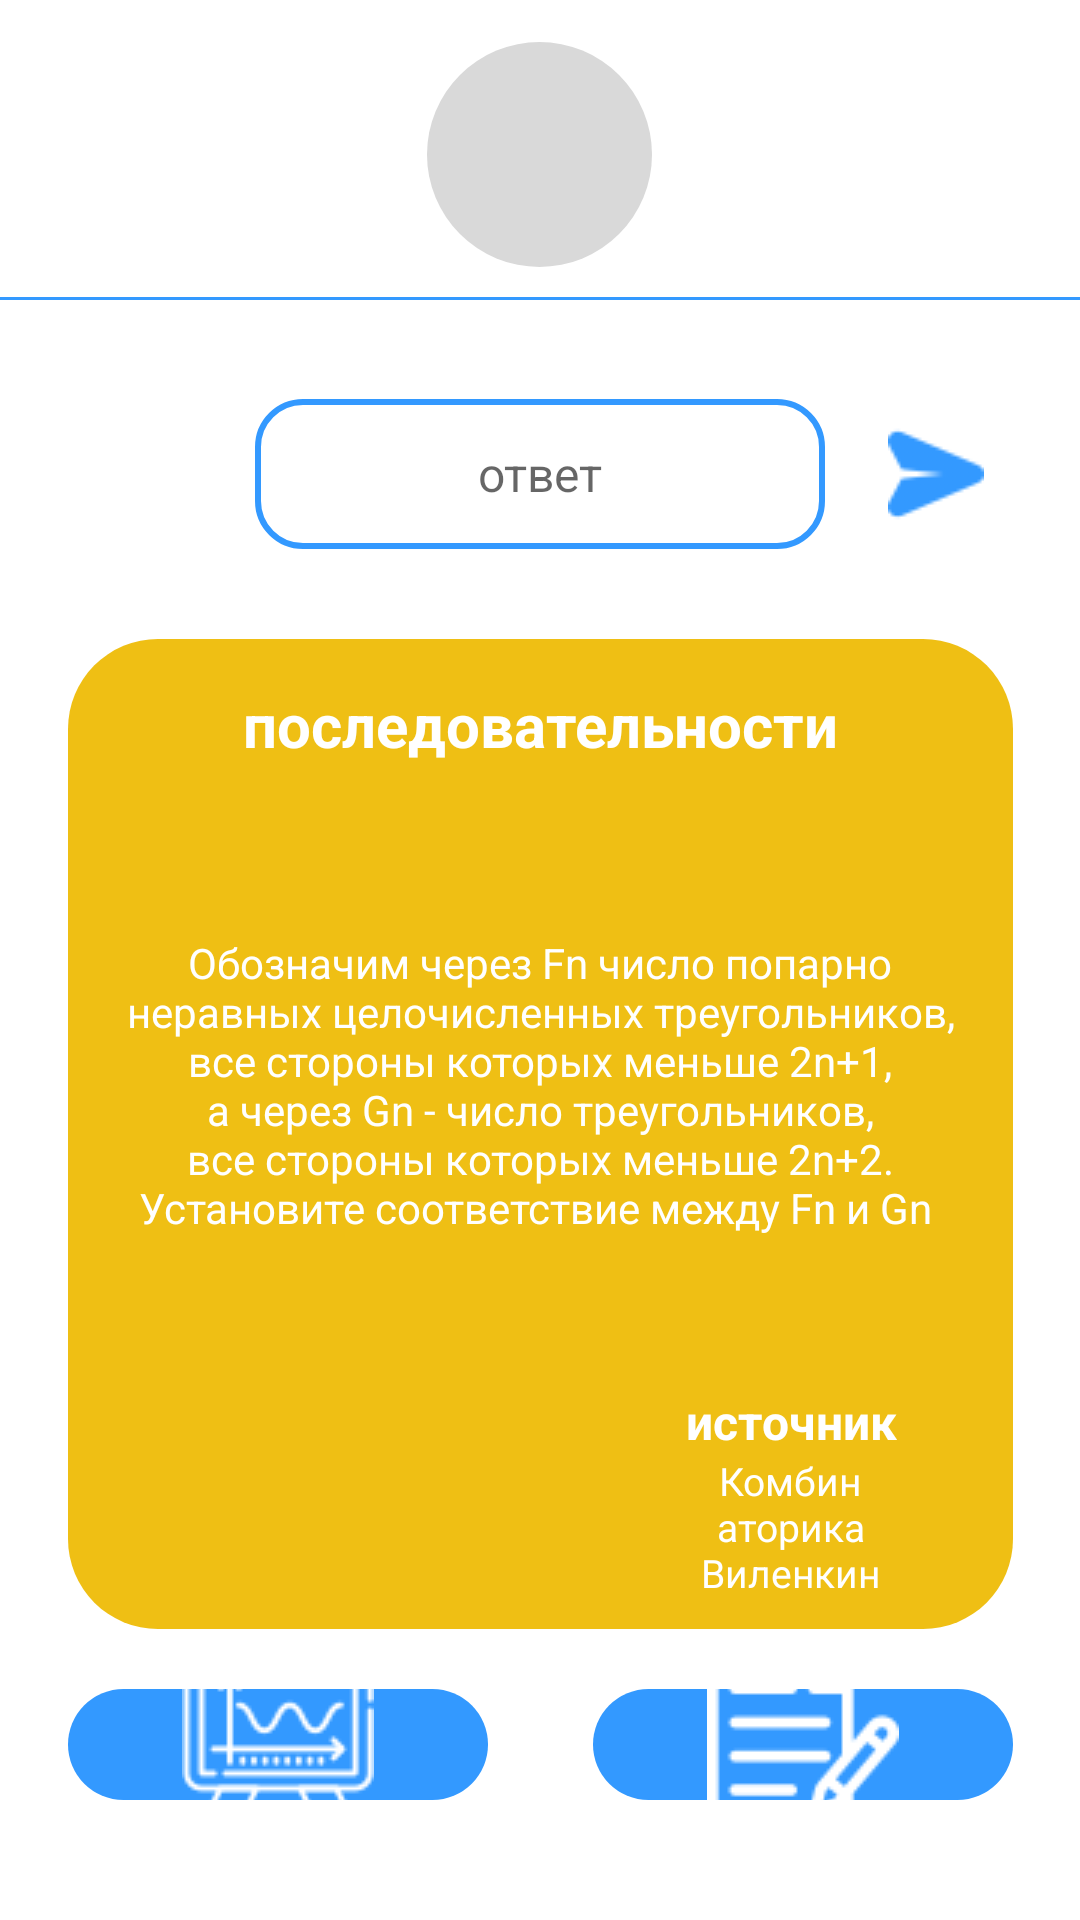

Icons on this 1080x1920 Android screen, each with the point to tap as [x,y]:
paper plane: [936,474]
